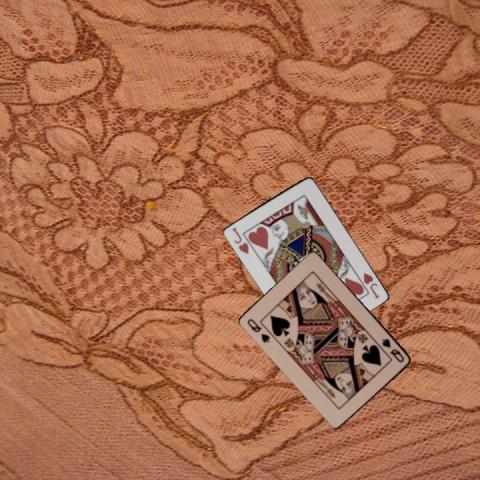Jh: (229, 224, 250, 255), (360, 270, 381, 301)
Qs: (379, 335, 406, 364), (245, 315, 272, 344)
